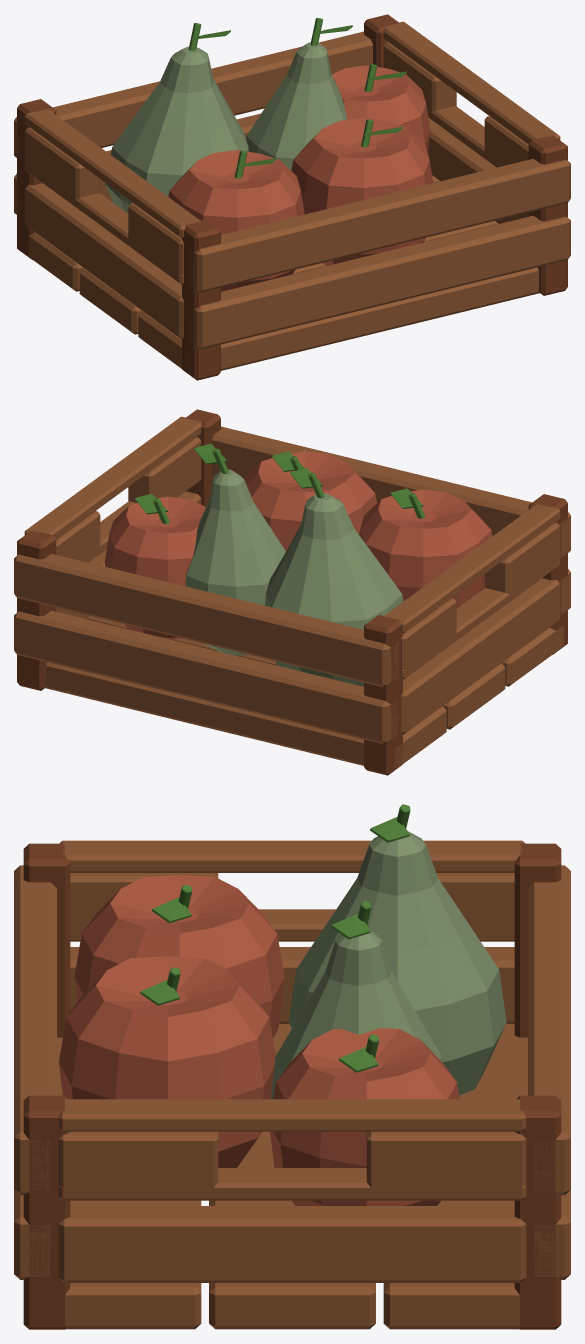
File: HarvestCrateOrchard.glb
The picture shows the model from 3 angles, top to bottom: view 1: azimuth 30°, elevation 25°; view 2: azimuth 150°, elevation 25°; view 3: azimuth 270°, elevation 25°; orthographic projection. The views are drawn at different scales.
Parts seen in each view (by area): view 1: HarvestCrateOrchard_Timber, HarvestCrateOrchard_ProducePrimary, HarvestCrateOrchard_ProduceSecondary, HarvestCrateOrchard_Frame, HarvestCrateOrchard_Stems; view 2: HarvestCrateOrchard_Timber, HarvestCrateOrchard_ProducePrimary, HarvestCrateOrchard_ProduceSecondary, HarvestCrateOrchard_Frame, HarvestCrateOrchard_Stems; view 3: HarvestCrateOrchard_Timber, HarvestCrateOrchard_ProducePrimary, HarvestCrateOrchard_ProduceSecondary, HarvestCrateOrchard_Frame, HarvestCrateOrchard_Stems.
Part boxes in pixels (x1,y1,x2,y2): HarvestCrateOrchard_Timber: [14, 21, 570, 372]; HarvestCrateOrchard_ProducePrimary: [168, 65, 433, 291]; HarvestCrateOrchard_ProduceSecondary: [105, 42, 347, 213]; HarvestCrateOrchard_Frame: [17, 14, 567, 380]; HarvestCrateOrchard_Stems: [188, 18, 406, 178]; HarvestCrateOrchard_Timber: [14, 416, 570, 768]; HarvestCrateOrchard_ProducePrimary: [104, 451, 492, 639]; HarvestCrateOrchard_ProduceSecondary: [185, 469, 403, 686]; HarvestCrateOrchard_Frame: [17, 409, 567, 775]; HarvestCrateOrchard_Stems: [135, 443, 425, 523]; HarvestCrateOrchard_Timber: [14, 840, 570, 1329]; HarvestCrateOrchard_ProducePrimary: [58, 875, 459, 1205]; HarvestCrateOrchard_ProduceSecondary: [271, 831, 506, 1099]; HarvestCrateOrchard_Frame: [23, 843, 561, 1329]; HarvestCrateOrchard_Stems: [140, 804, 410, 1072].
Size of the model in its own units: 0.841 by 0.4943 by 0.715.
